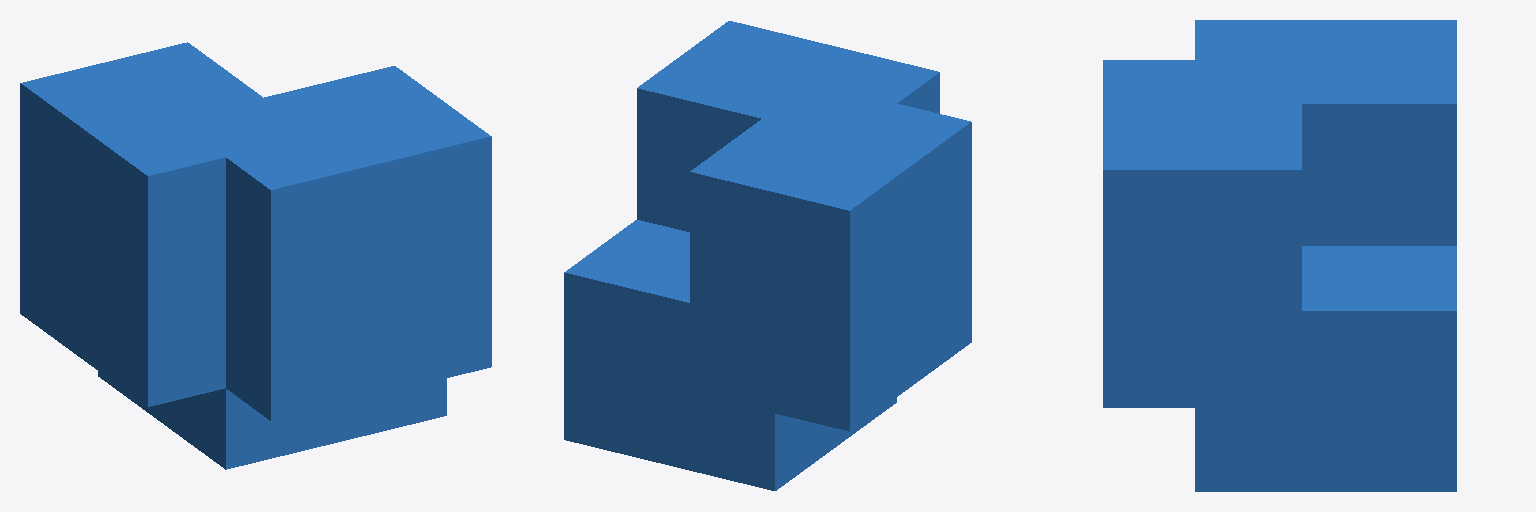
robot.urdf — hip_baseline_envelope_proxy:
<?xml version='1.0' encoding='utf-8'?>
<robot name="hip_baseline_envelope_proxy">
  <link name="world" />
  <link name="hip_0">
    <visual>
      <geometry>
        <box size="0.053 0.053 0.0402" />
      </geometry>
      <material name="m0">
        <color rgba="0.25 0.55 0.85 0.7" />
      </material>
    </visual>
  </link>
  <joint name="fixed_0" type="fixed">
    <parent link="world" />
    <child link="hip_0" />
    <origin xyz="0.0 0.055 0.17989999999999998" rpy="0 0 0" />
  </joint>
  <link name="hip_1">
    <visual>
      <geometry>
        <box size="0.0402 0.053 0.053" />
      </geometry>
      <material name="m1">
        <color rgba="0.25 0.55 0.85 0.7" />
      </material>
    </visual>
  </link>
  <joint name="fixed_1" type="fixed">
    <parent link="world" />
    <child link="hip_1" />
    <origin xyz="-0.0251 0.055 0.205" rpy="0 0 0" />
  </joint>
  <link name="hip_2">
    <visual>
      <geometry>
        <box size="0.053 0.0402 0.053" />
      </geometry>
      <material name="m2">
        <color rgba="0.25 0.55 0.85 0.7" />
      </material>
    </visual>
  </link>
  <joint name="fixed_2" type="fixed">
    <parent link="world" />
    <child link="hip_2" />
    <origin xyz="0.0 0.0299 0.205" rpy="0 0 0" />
  </joint>
</robot>

--- Render facts (derived) ---
3 views of the same robot in one strip: view 1: azimuth 30°, elevation 25°; view 2: azimuth 150°, elevation 25°; view 3: azimuth 270°, elevation 25° (orthographic).
Model hip_baseline_envelope_proxy with 4 links and 3 joints (3 fixed), rooted at world, posed all joints at 0.
Links seen in each view (by area): view 1: hip_2, hip_1, hip_0; view 2: hip_1, hip_0, hip_2; view 3: hip_2, hip_0, hip_1.
Link boxes in pixels (x1,y1,x2,y2): hip_2: [180, 66, 491, 420]; hip_1: [20, 42, 275, 406]; hip_0: [98, 371, 446, 469]; hip_1: [690, 83, 971, 431]; hip_0: [564, 220, 896, 490]; hip_2: [637, 21, 939, 231]; hip_2: [1103, 60, 1301, 407]; hip_0: [1195, 246, 1456, 491]; hip_1: [1195, 20, 1456, 245].
Size in the robot's own frame: 0.0717 by 0.0717 by 0.0717 metres.
Geometry: primitives only (box / cylinder / sphere), no mesh files.
